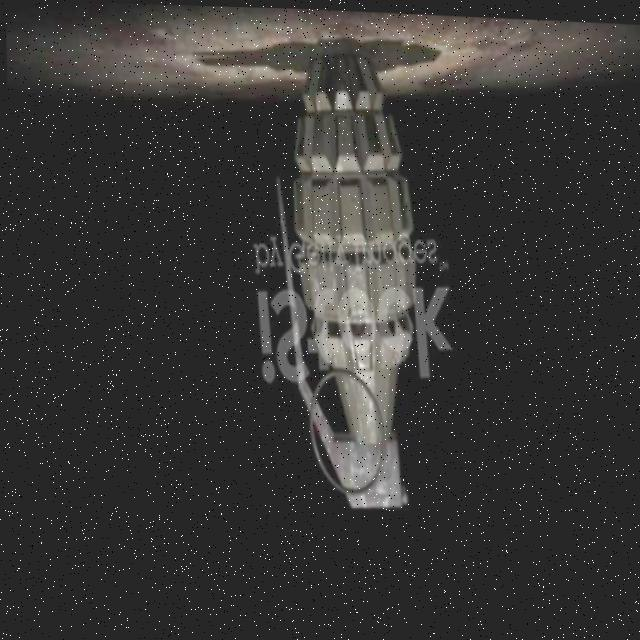grenade: (254, 26, 451, 535)
